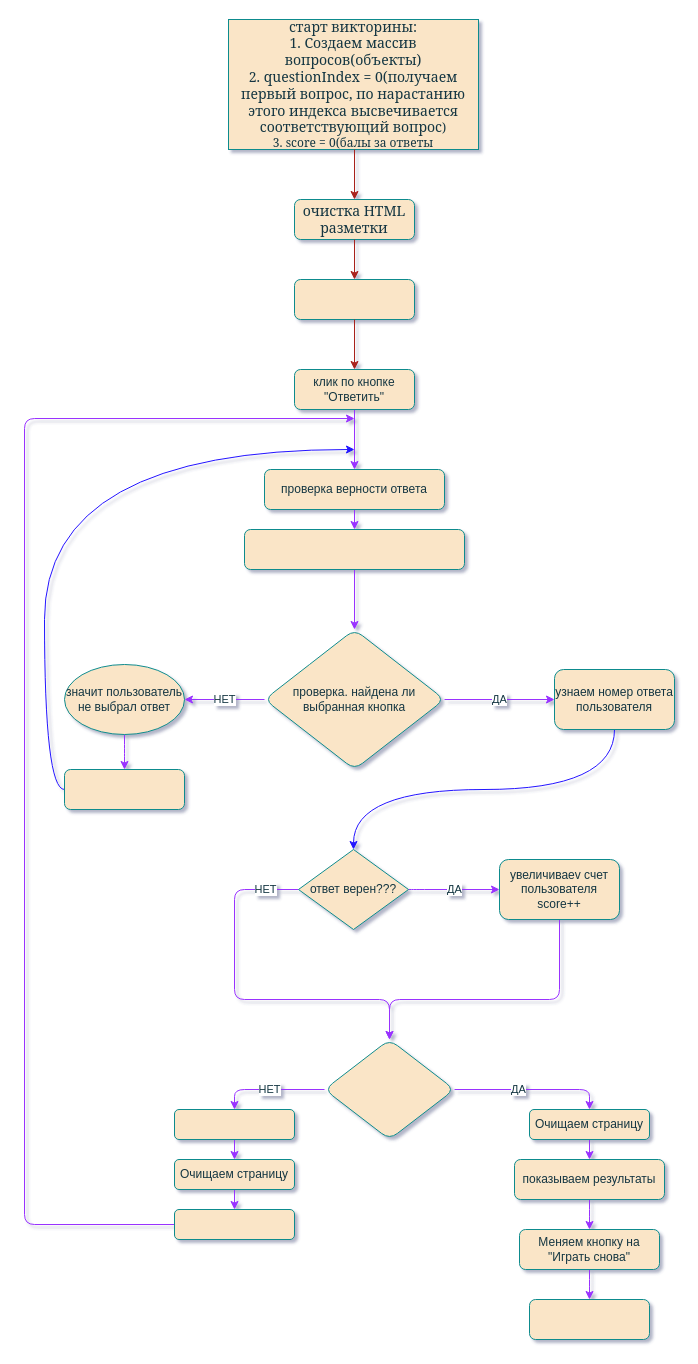
The diagram is 698 pixels wide and 1364 high, and some of its shapes have lost their labels. The centre of each missing label's shape, as x and y in pixels:
выход из функции: (124,789)
находим выбранную радиокнопку: (354,549)
Показываем следующий вопрос: (234,1224)
При нажатии на играть снова - обновляем страницу: (589,1319)
рендер текущего вопроса: (354,299)
Увеличиваем index: (234,1124)
Это был последний вопрос???: (389,1089)
